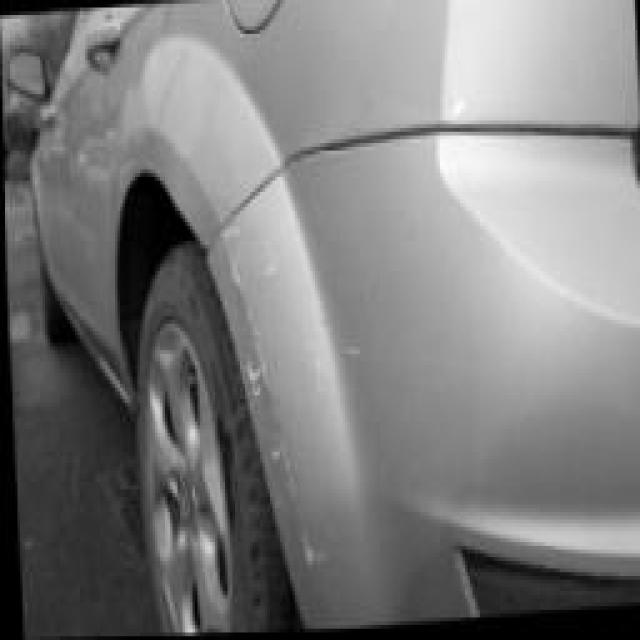Bumper: (212, 154, 384, 610)
